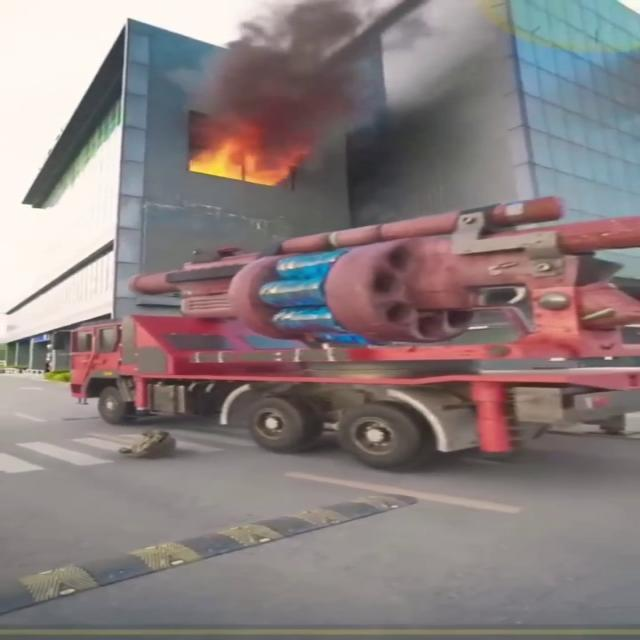Fire: (181, 120, 298, 188)
Smoke: (190, 0, 537, 159)
